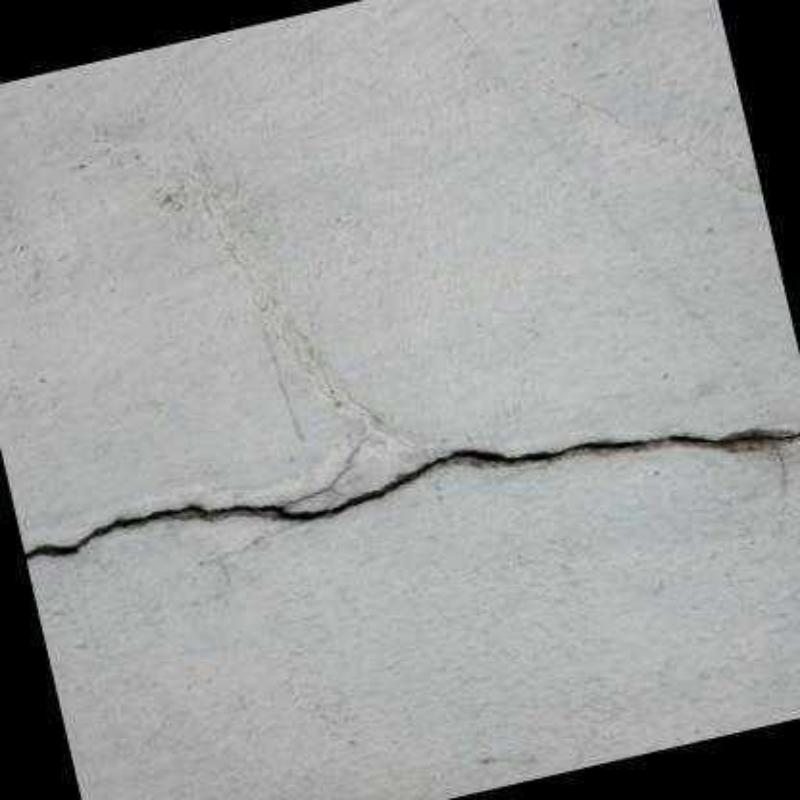crack: (23, 427, 798, 563), (283, 448, 360, 508)
